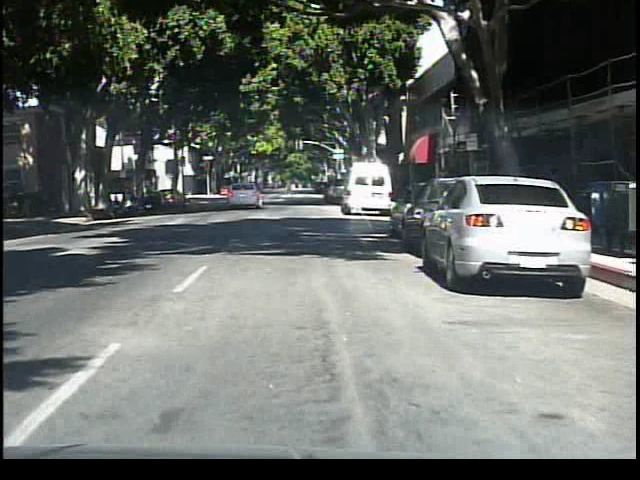person: (279, 172, 299, 204)
